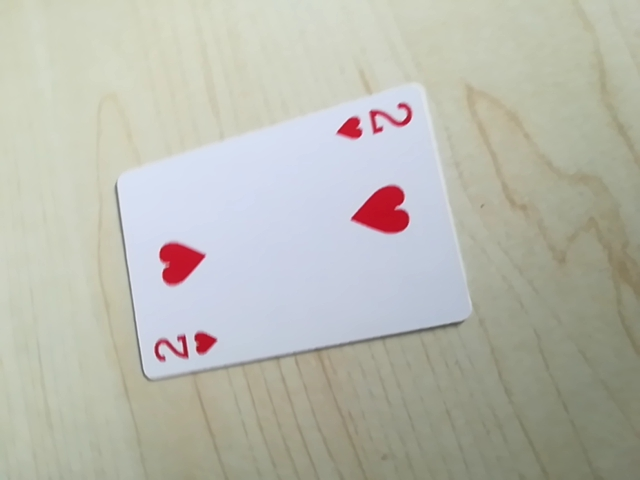hx 2: (330, 96, 421, 148), (149, 325, 221, 373)
